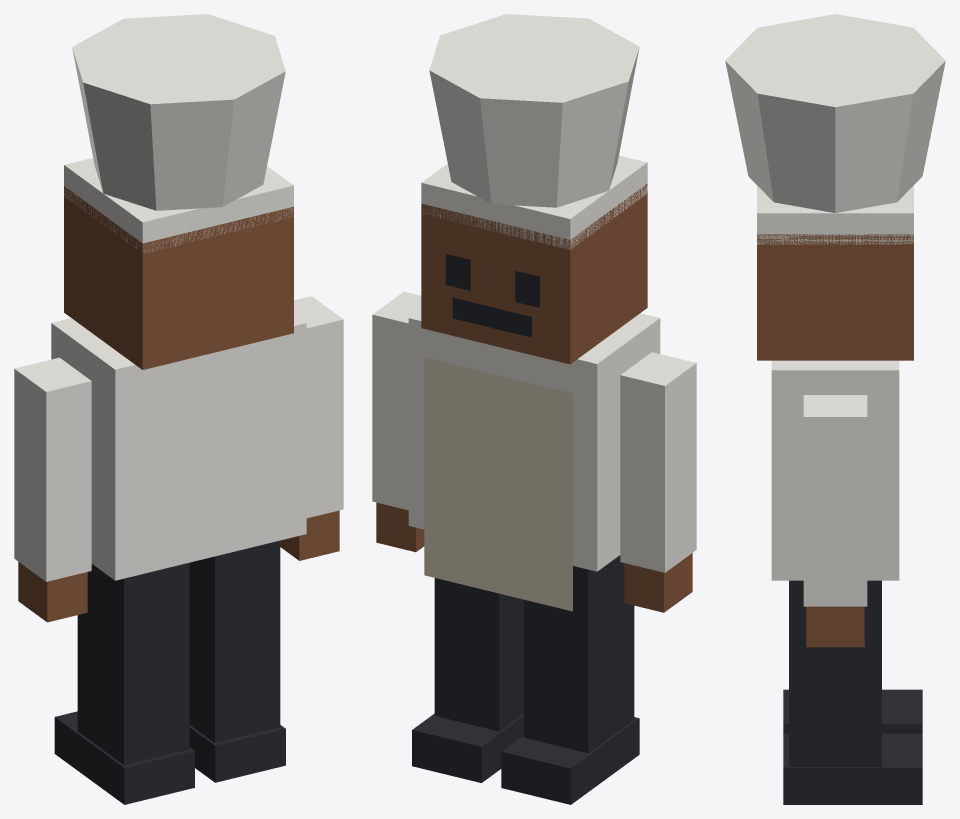
The model's file is H_Chef.fbx.
3 views of the same model, side by side, from view 1: azimuth 30°, elevation 25°; view 2: azimuth 150°, elevation 25°; view 3: azimuth 270°, elevation 25° (orthographic).
Visible parts, largest first — view 1: H_Chef; view 2: H_Chef; view 3: H_Chef.
Boxes of the visible parts, box(x1,y1,x2,y2) form: H_Chef: box(14, 14, 343, 804); H_Chef: box(372, 14, 696, 804); H_Chef: box(725, 14, 945, 804).
Bounding box in the file's own units: 0.59 × 1.34 × 0.38.
